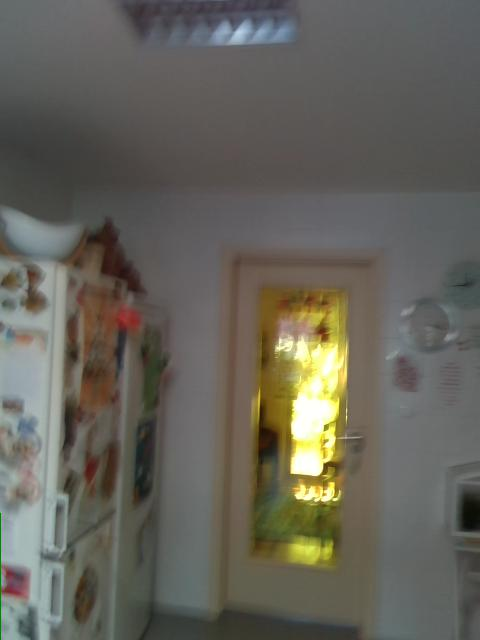door: (204, 249, 382, 635)
